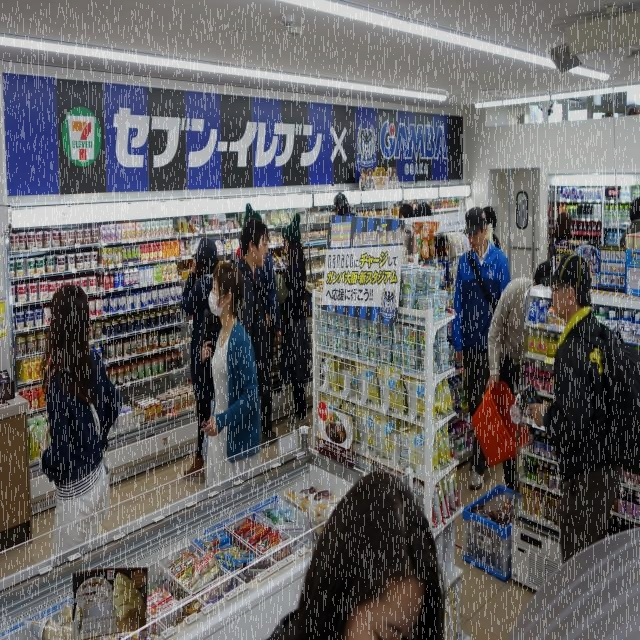pessoa: (540, 252, 640, 566), (262, 469, 446, 639), (38, 284, 124, 556), (482, 259, 555, 507), (450, 207, 512, 492), (197, 261, 262, 488), (226, 202, 282, 449), (464, 205, 512, 470), (179, 237, 223, 486), (264, 214, 312, 436), (227, 218, 270, 444), (549, 212, 573, 264), (620, 196, 639, 248), (330, 192, 358, 216), (395, 203, 437, 219)
